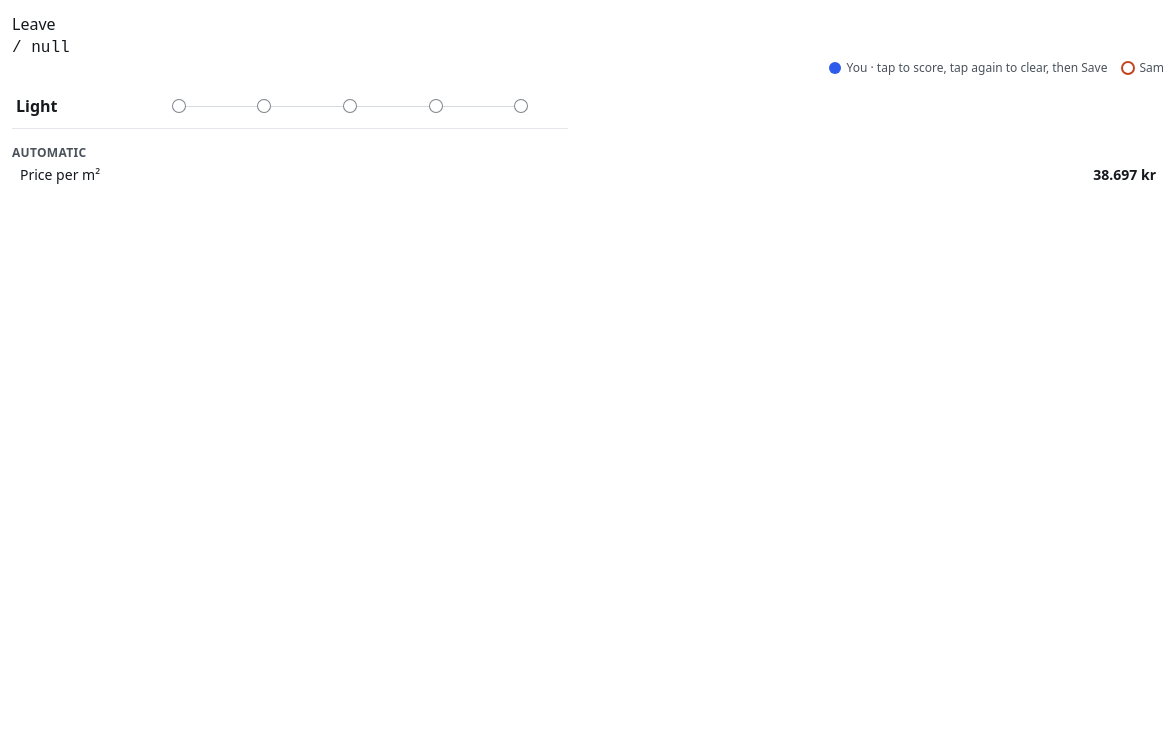
a failed save keeps the ratings and says why
This screenshot has width=1176, height=732.
Click the button named "Light 4": point(436, 106) [414, 84, 458, 128]
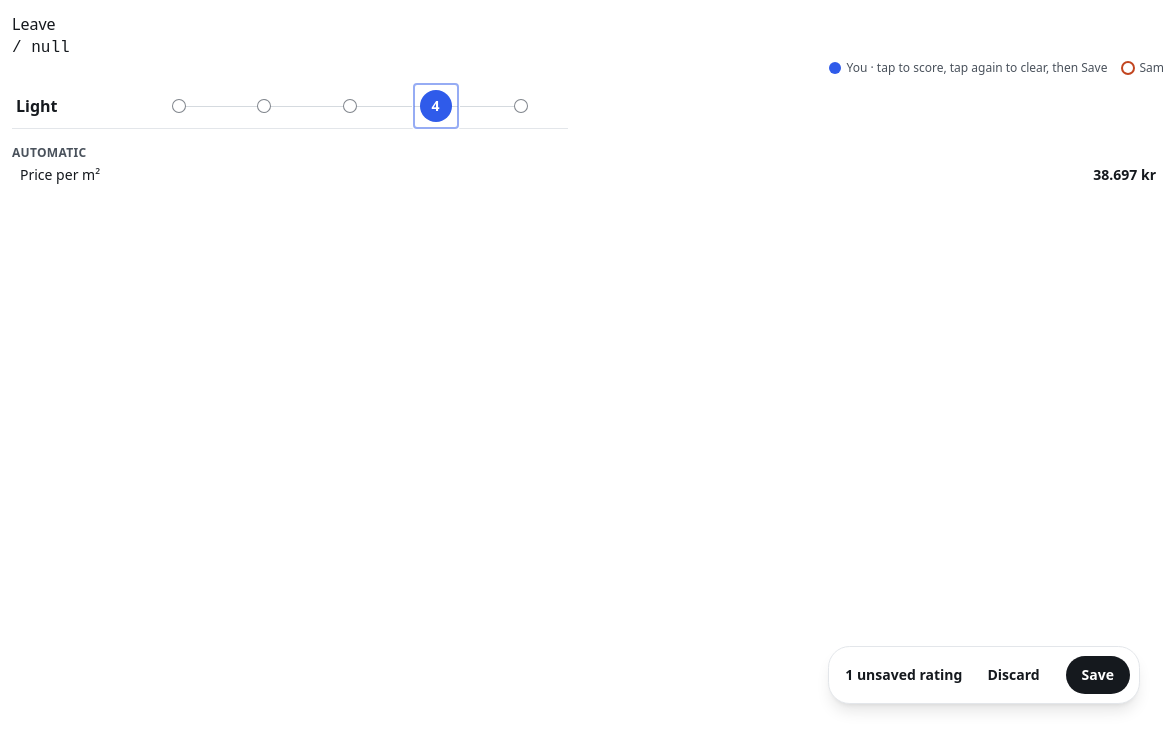
Click the button "Save": point(1098, 675) [1065, 655, 1131, 695]
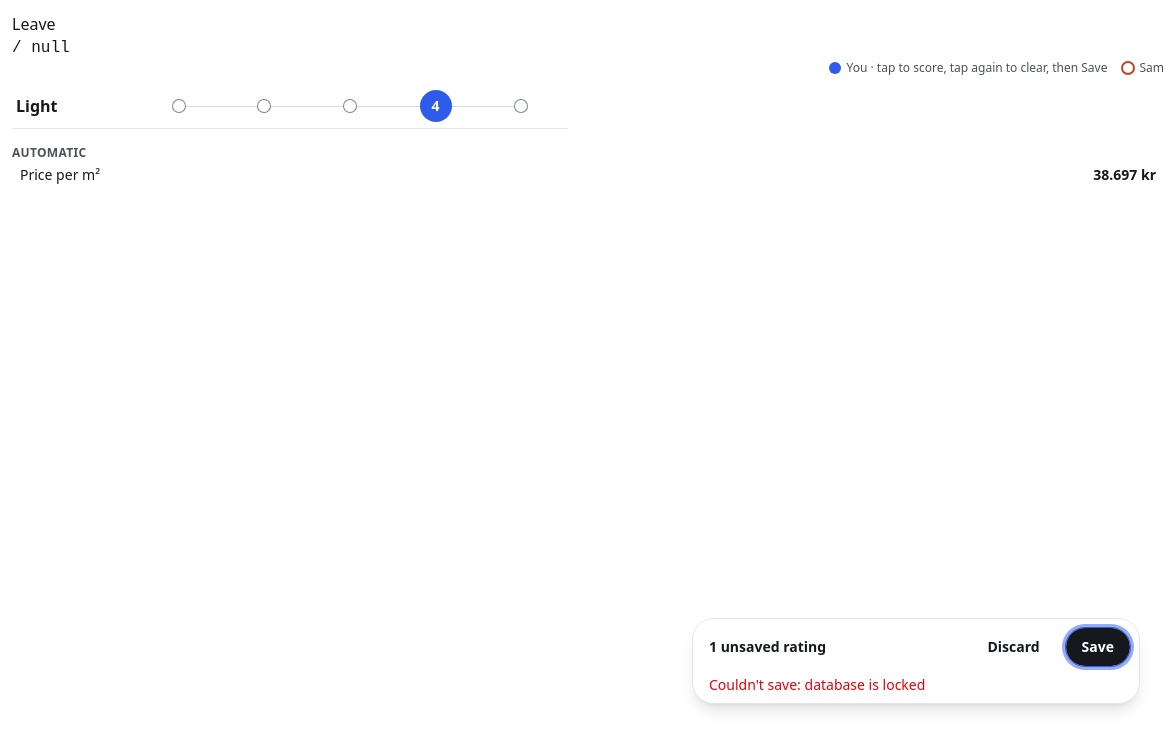
Now the button "Save" is shown, box [1065, 627, 1131, 667]
Now the text "Couldn't save: database is locked" is shown, box [709, 675, 925, 694]
